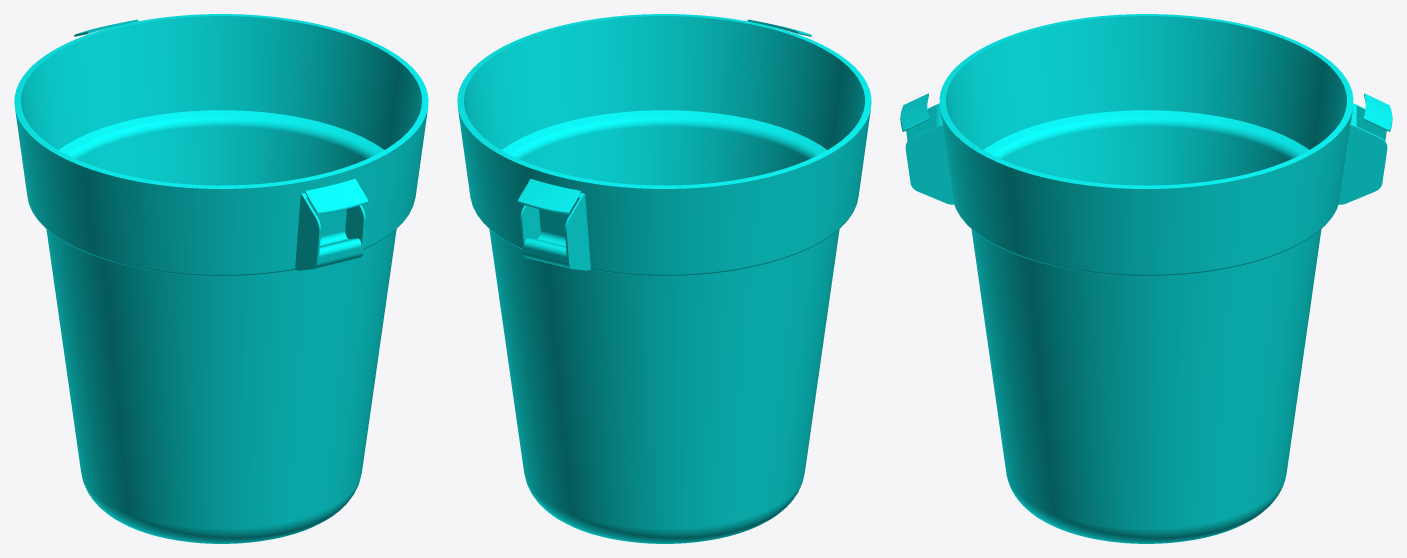
File: trash_can_mm.dae
3 renders of one model, left to right at view 1: azimuth 30°, elevation 25°; view 2: azimuth 150°, elevation 25°; view 3: azimuth 270°, elevation 25°, orthographic.
Visible parts, largest first — view 1: a61c4db6-b97f-470a-ac61-0497785b0e42, ca359694-65f5-42e5-af44-bcea83f2c873, be2ad72f-02b5-4016-b1f5-e18e0c31248c, a6015a19-c987-4132-88e5-90ce0da17c2a, a76c805f-cef3-455a-bd71-a9605605b697; view 2: a61c4db6-b97f-470a-ac61-0497785b0e42, aca1a379-9710-4f5b-b93f-3252b52e5ee0, dbb94180-64e8-4799-8efd-4b0ac70307d0, a2e7089d-5904-47c4-8d73-440520accd71, b0b2c8f4-c933-43df-bf4c-3ac1bbc07f2e; view 3: a61c4db6-b97f-470a-ac61-0497785b0e42, a76c805f-cef3-455a-bd71-a9605605b697, b0b2c8f4-c933-43df-bf4c-3ac1bbc07f2e, a6015a19-c987-4132-88e5-90ce0da17c2a, a2e7089d-5904-47c4-8d73-440520accd71.
Part boxes in pixels (<box>): a61c4db6-b97f-470a-ac61-0497785b0e42: <box>14,14,428,543</box>; ca359694-65f5-42e5-af44-bcea83f2c873: <box>303,193,362,268</box>; be2ad72f-02b5-4016-b1f5-e18e0c31248c: <box>295,193,320,270</box>; a6015a19-c987-4132-88e5-90ce0da17c2a: <box>305,178,368,214</box>; a76c805f-cef3-455a-bd71-a9605605b697: <box>345,205,365,257</box>; a61c4db6-b97f-470a-ac61-0497785b0e42: <box>457,14,871,543</box>; aca1a379-9710-4f5b-b93f-3252b52e5ee0: <box>523,193,582,268</box>; dbb94180-64e8-4799-8efd-4b0ac70307d0: <box>565,193,590,270</box>; a2e7089d-5904-47c4-8d73-440520accd71: <box>517,178,580,214</box>; b0b2c8f4-c933-43df-bf4c-3ac1bbc07f2e: <box>520,205,540,257</box>; a61c4db6-b97f-470a-ac61-0497785b0e42: <box>939,14,1353,543</box>; a76c805f-cef3-455a-bd71-a9605605b697: <box>905,124,954,204</box>; b0b2c8f4-c933-43df-bf4c-3ac1bbc07f2e: <box>1338,124,1387,204</box>; a6015a19-c987-4132-88e5-90ce0da17c2a: <box>900,93,929,131</box>; a2e7089d-5904-47c4-8d73-440520accd71: <box>1363,93,1392,131</box>.
Bounding box in the file's own units: 559 × 664 × 587.
